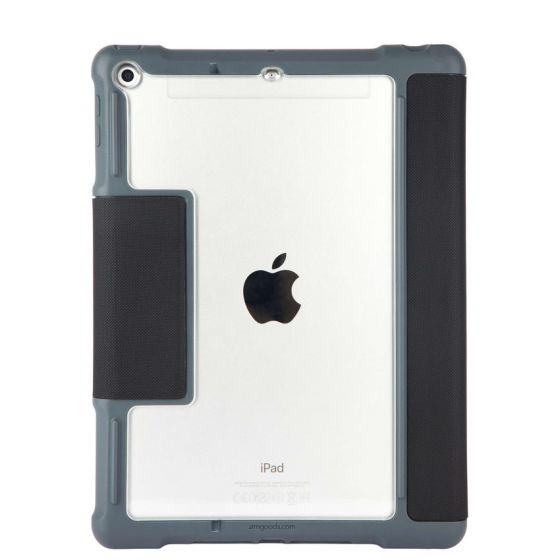apple: (238, 234, 329, 360)
